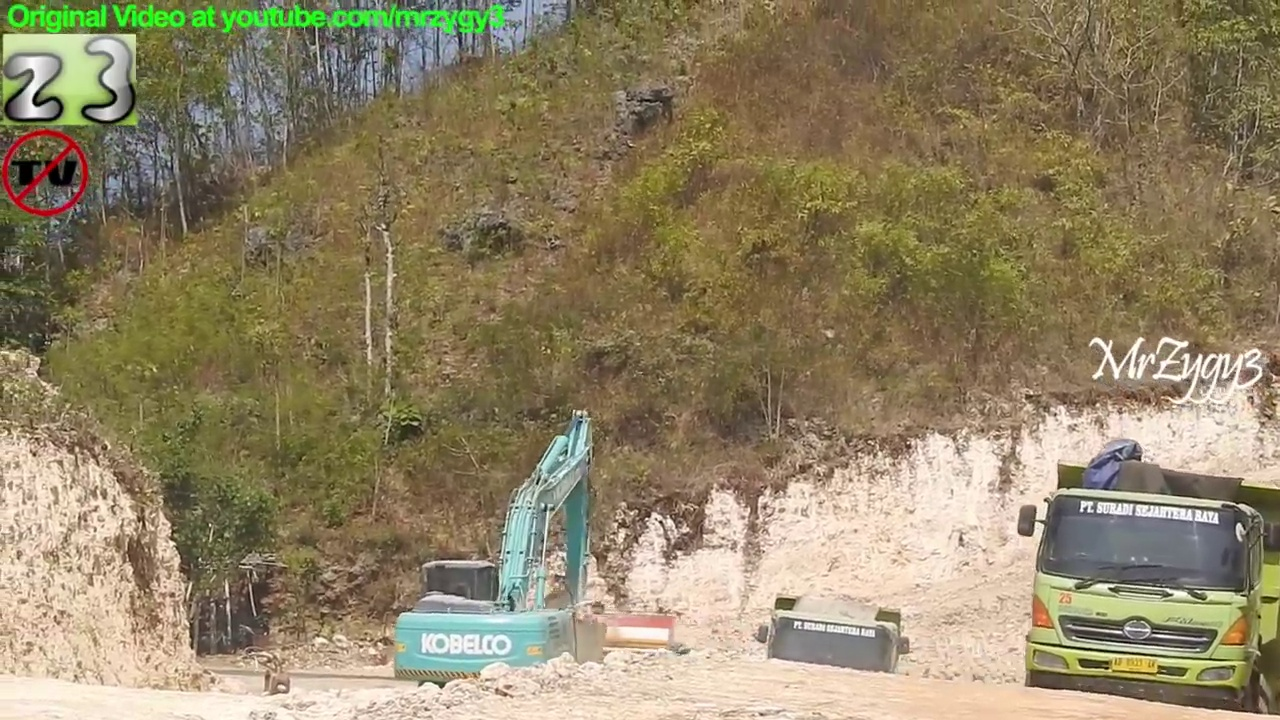excavator: (385, 403, 615, 713)
truck: (1010, 453, 1280, 720), (750, 589, 914, 720), (495, 602, 681, 675)
